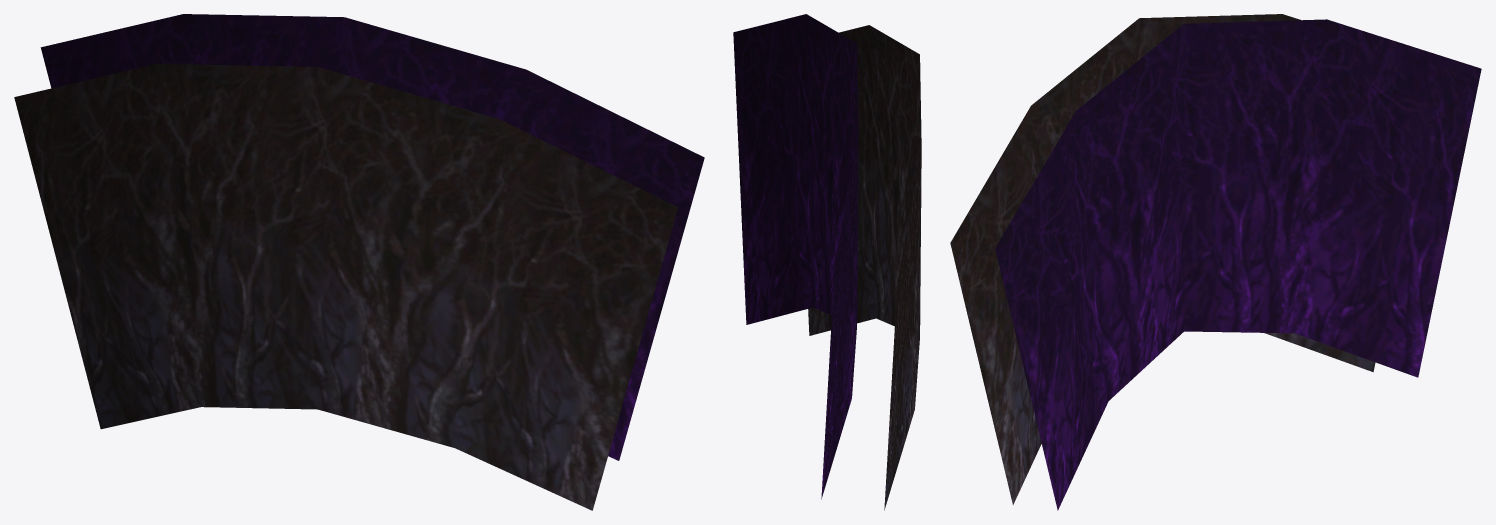
File: EKH_ENTRANCE_PS_EN_TREE_LINE9398377.fbx
The picture shows the model from 3 angles, left to right: view 1: azimuth 30°, elevation 25°; view 2: azimuth 150°, elevation 25°; view 3: azimuth 270°, elevation 25°; orthographic projection. The views are drawn at different scales.
Visible parts, largest first — view 1: EKH_ENTRANCE_PS_EN_TREE_LINE9398377; view 2: EKH_ENTRANCE_PS_EN_TREE_LINE9398377; view 3: EKH_ENTRANCE_PS_EN_TREE_LINE9398377.
Part boxes in pixels (x1,y1,x2,y2): EKH_ENTRANCE_PS_EN_TREE_LINE9398377: [14, 14, 704, 510]; EKH_ENTRANCE_PS_EN_TREE_LINE9398377: [733, 14, 921, 510]; EKH_ENTRANCE_PS_EN_TREE_LINE9398377: [950, 14, 1481, 510].
Size of the model in its own units: 233329 by 231333 by 268563.
2 materials, 2 textured.
